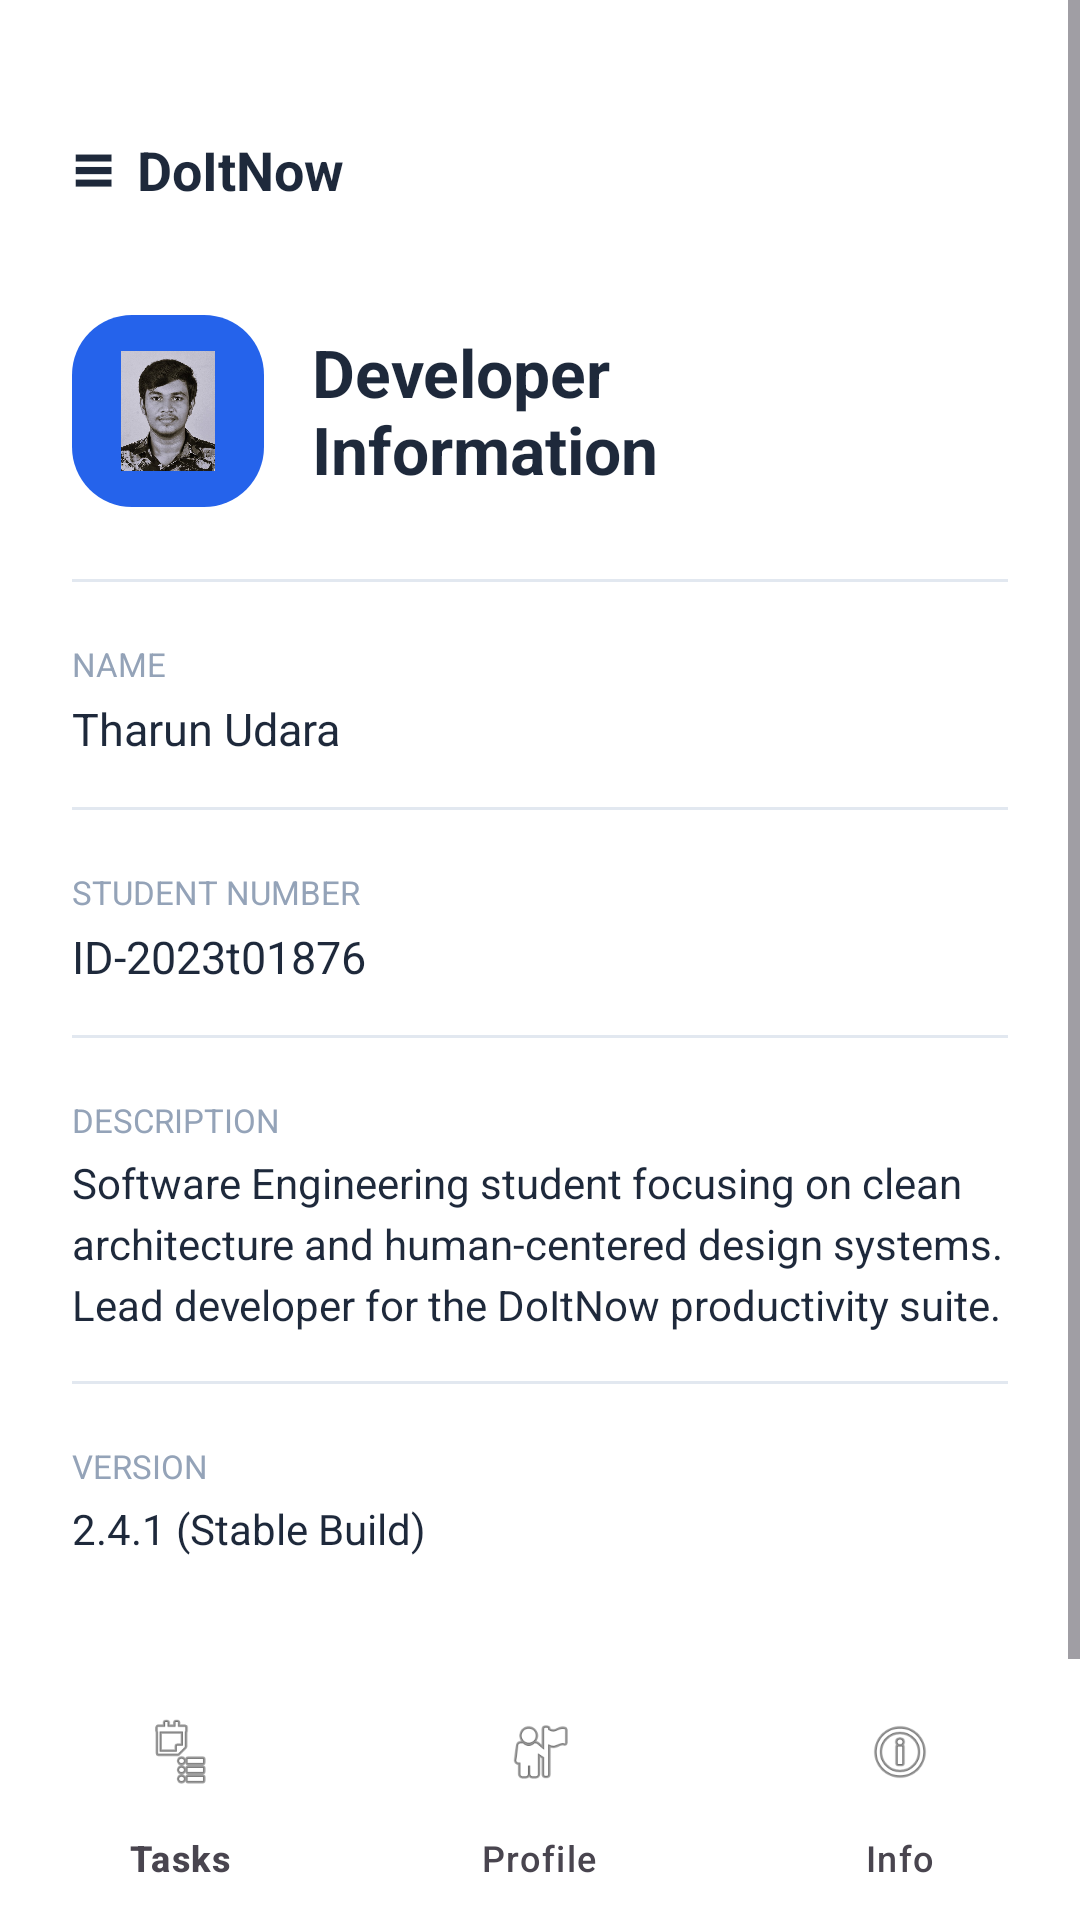

Screen size 1080px×1920px. Icon name, then its center in pixels as [x,y]:
profile photo: [168,411]
